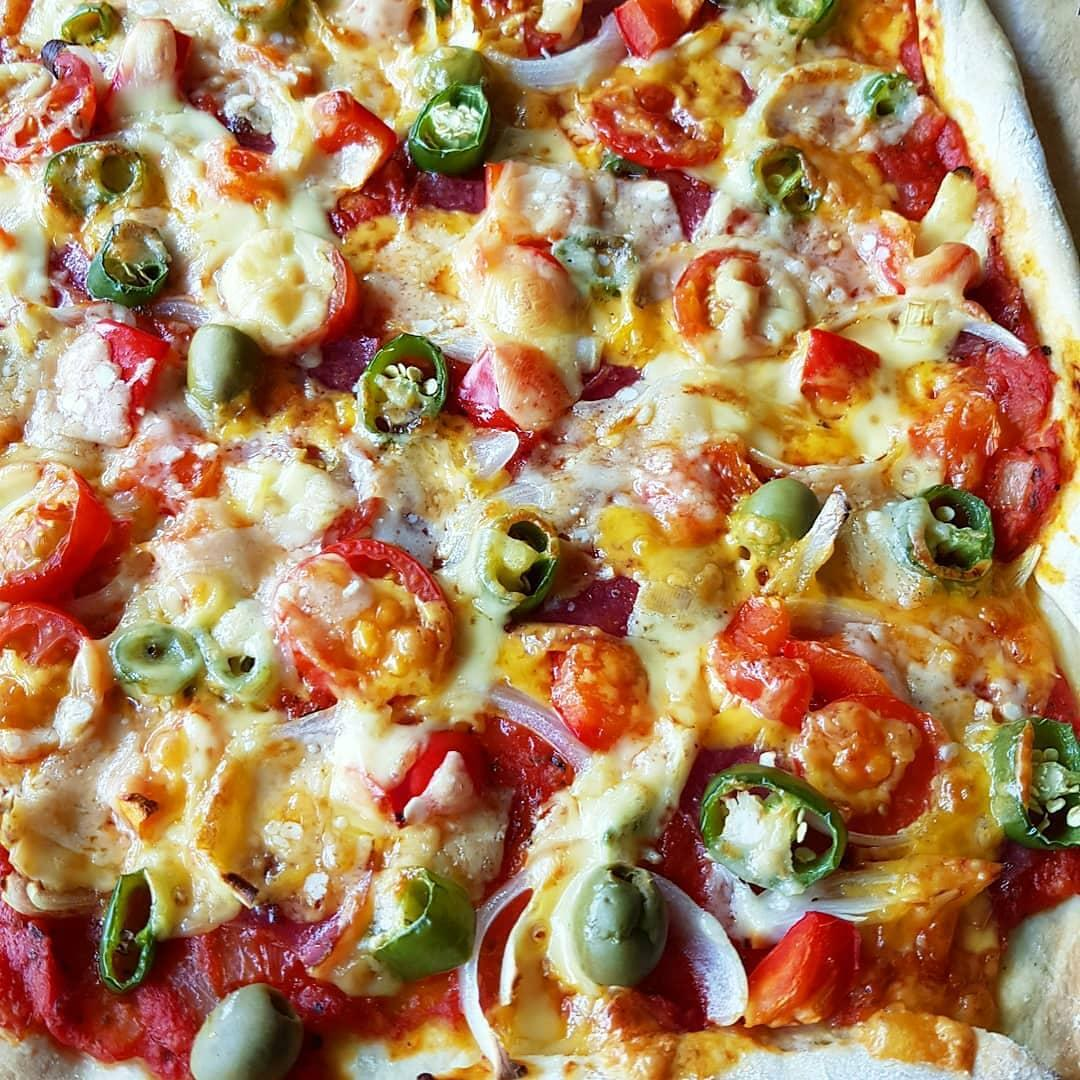Olives: (172, 972, 317, 1080), (586, 860, 647, 990), (738, 478, 821, 558), (113, 625, 201, 688), (206, 618, 275, 698), (188, 323, 243, 407)
Peppers: (706, 770, 845, 896), (352, 857, 482, 985), (903, 485, 1009, 590), (1000, 710, 1080, 842), (469, 506, 566, 613), (542, 211, 650, 305), (96, 871, 175, 982), (355, 333, 447, 423), (745, 131, 835, 219), (85, 223, 181, 305), (406, 83, 491, 165), (842, 60, 923, 138), (47, 0, 129, 58), (763, 0, 844, 45), (213, 0, 299, 35)
Pizza: (0, 0, 1080, 1080)
Tomatoes: (728, 618, 943, 818), (286, 533, 467, 694), (220, 228, 369, 357), (948, 333, 1059, 495), (0, 600, 106, 760), (388, 713, 507, 832), (551, 618, 649, 756), (668, 241, 785, 355), (3, 463, 101, 596), (293, 83, 403, 199), (70, 320, 189, 415), (865, 112, 966, 219), (601, 86, 715, 175), (668, 423, 768, 516), (473, 355, 567, 447), (3, 66, 99, 151), (788, 323, 881, 409), (610, 3, 675, 59)
